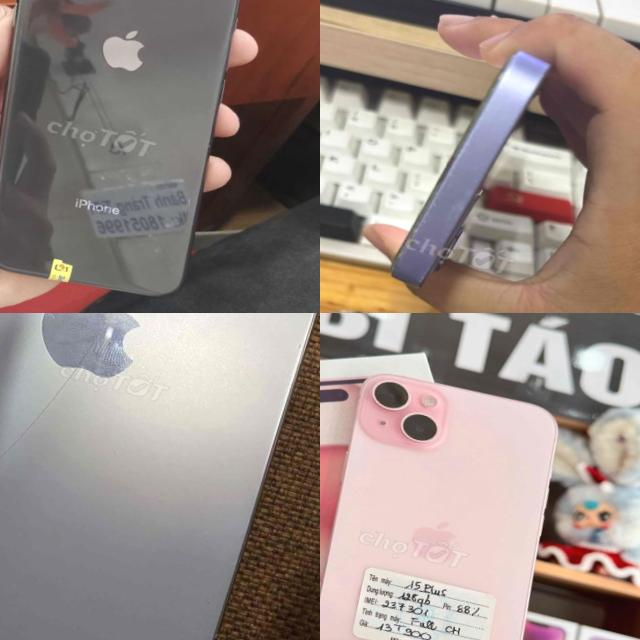gen_12_13: (382, 30, 564, 312)
gen_15: (320, 356, 605, 640)
gen_16: (0, 313, 320, 640)
gen_7_8: (0, 0, 279, 313)
physical_damage: (0, 313, 163, 521)
scratch: (394, 103, 492, 284)
